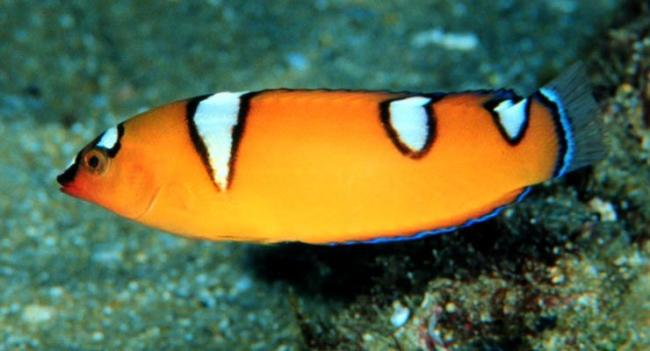fish: (56, 58, 609, 246)
